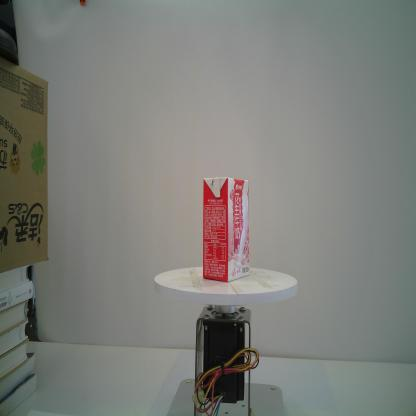Milk: (202, 176, 251, 283)
